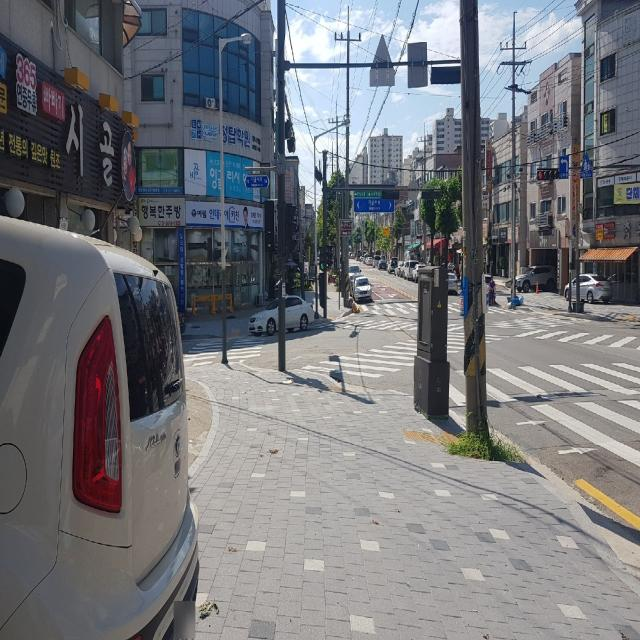횡단보도: (485, 311, 640, 453), (440, 364, 640, 458), (309, 339, 420, 380), (184, 337, 266, 366), (361, 303, 415, 337)
